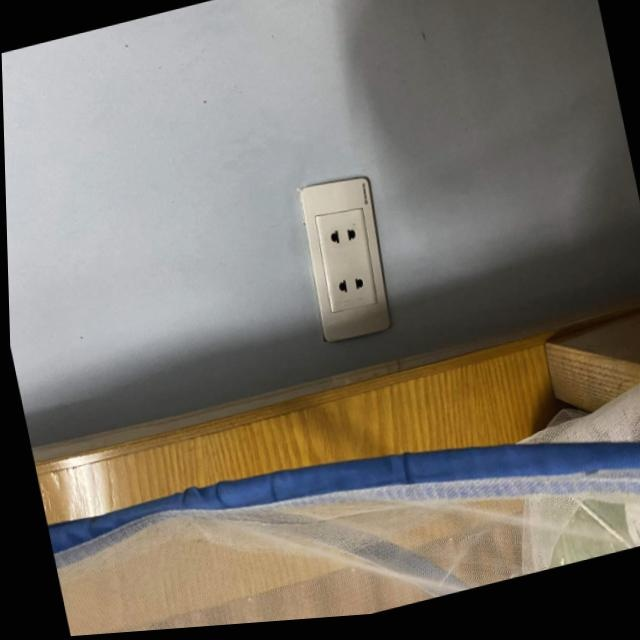outlet: (291, 168, 400, 347)
